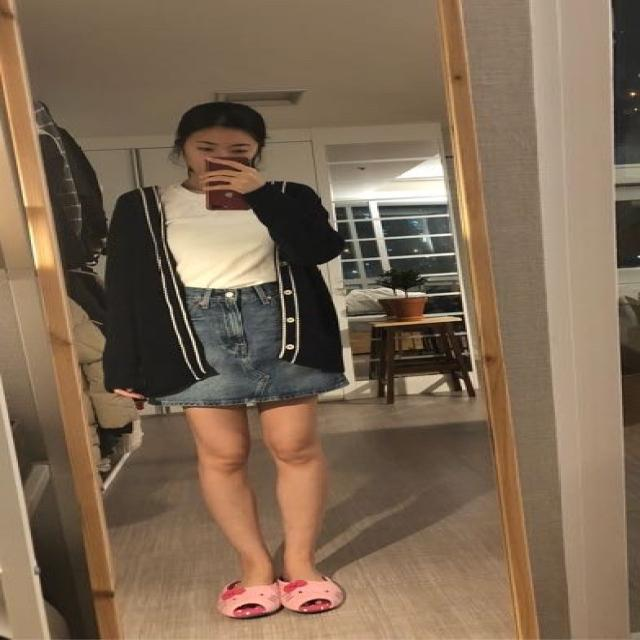cardigan: (98, 182, 346, 395)
skirt: (132, 283, 348, 406)
